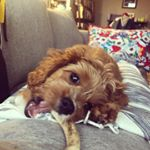puppy: (22, 41, 128, 150)
